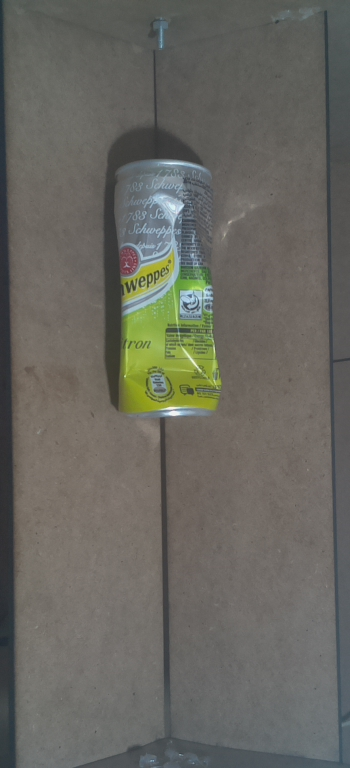Canette: (103, 151, 231, 432)
